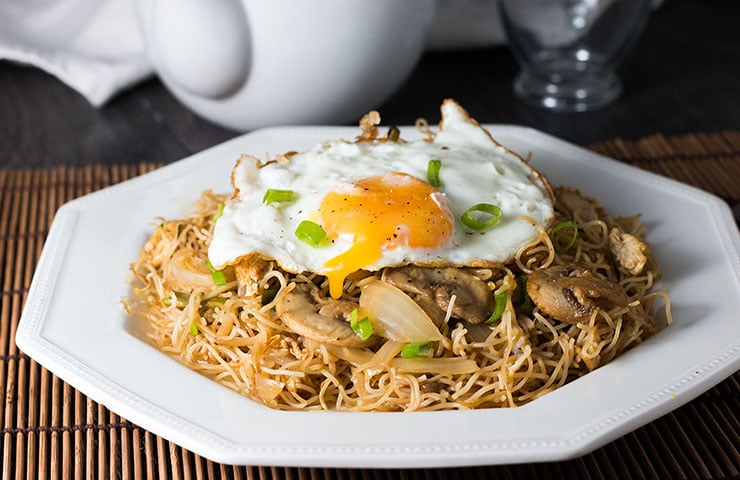fried egg: (249, 115, 541, 260)
plain spaghetti: (249, 300, 545, 395)
